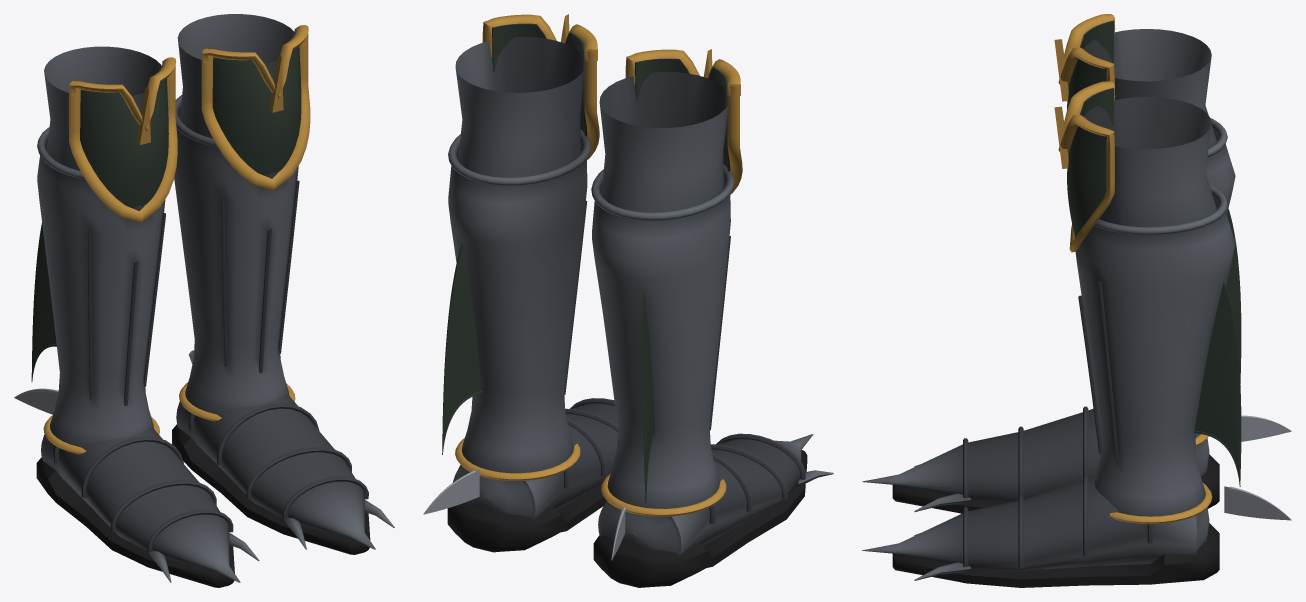
Rendered from f_blackdragon.glb.
3 views of the same model, side by side, from view 1: azimuth 30°, elevation 25°; view 2: azimuth 150°, elevation 25°; view 3: azimuth 270°, elevation 25° (orthographic). The views are drawn at different scales.
Parts seen in each view (by area): view 1: LegR_Boot, LegL_Boot, LegR_BootFoot, LegL_BootFoot; view 2: LegL_Boot, LegR_Boot, LegR_BootFoot, LegL_BootFoot; view 3: LegL_Boot, LegL_BootFoot, LegR_BootFoot, LegR_Boot.
Boxes of the visible parts, x1=… form: LegR_Boot: x1=31, y1=46, x2=177, y2=454; LegL_Boot: x1=174, y1=14, x2=310, y2=421; LegR_BootFoot: x1=14, y1=388, x2=259, y2=587; LegL_BootFoot: x1=172, y1=350, x2=394, y2=554; LegL_Boot: x1=442, y1=14, x2=599, y2=480; LegR_Boot: x1=591, y1=49, x2=742, y2=516; LegR_BootFoot: x1=593, y1=433, x2=833, y2=587; LegL_BootFoot: x1=423, y1=398, x2=617, y2=552; LegL_Boot: x1=1054, y1=81, x2=1241, y2=524; LegL_BootFoot: x1=862, y1=475, x2=1291, y2=587; LegR_BootFoot: x1=862, y1=406, x2=1291, y2=513; LegR_Boot: x1=1054, y1=14, x2=1241, y2=446.
Size of the model in its own units: 0.3491 by 0.6058 by 0.5117.
